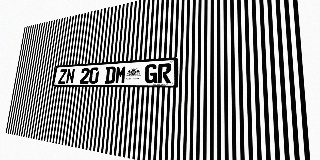plate: (53, 57, 179, 87)
